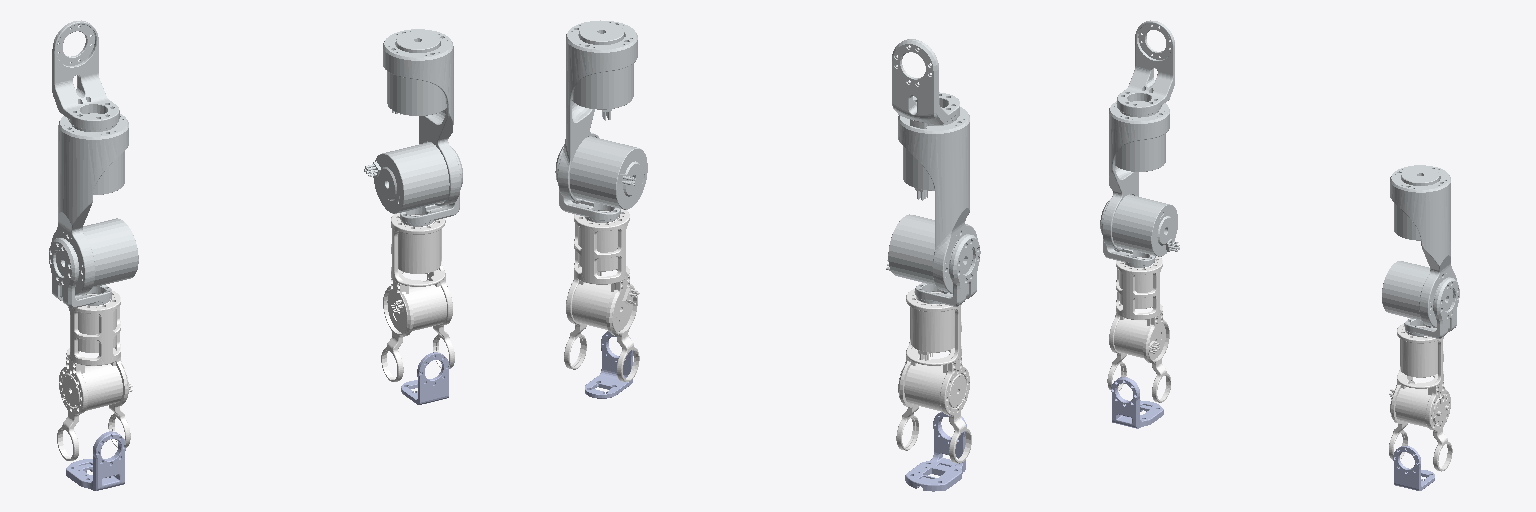
URDF robot description (astral_robot_clean):
<?xml version="1.0" encoding="utf-8"?>
<robot name="astral_robot_clean">
  <!-- dual clean arm — positive-MDH joints -->
  <link name="world"/>
  <joint name="ground_to_body" type="fixed">
    <origin xyz="0 0 0" rpy="0 0 0"/>
    <parent link="world"/><child link="body_link"/>
  </joint>
  <link name="body_link"/>
  <joint name="left_shoulder_mount" type="fixed">
    <origin xyz="0.09495 0.0 0.412" rpy="3.14159 -1.57079 -3.14159"/>
    <parent link="body_link"/><child link="left_base_link"/>
  </joint>
  <link name="left_base_link"/>
  <link name="left_link1">
    <inertial>
      <origin xyz="3.13242e-05 -0.00413701 0.0135973" rpy="0 0 -1.5708"/>
      <mass value="0.42514393"/>
      <inertia ixx="0.00044603372" ixy="8.7983418e-07" ixz="5.25095e-07" iyy="0.00040079554" iyz="-5.5533145e-05" izz="0.00037515957"/>
    </inertial>
    <visual>
      <origin xyz="5.62591e-23 7.48515e-23 0.11655" rpy="1.11022e-16 0 -1.5708"/>
      <geometry>
        <mesh filename="package://robot_description/meshes/astral/robot/link1.STL"/>
      </geometry>
      <material name=""><color rgba="0.898039215686275 0.917647058823529 0.929411764705882 1"/></material>
    </visual>
    <collision>
      <origin xyz="5.62591e-23 7.48515e-23 0.11655" rpy="1.11022e-16 0 -1.5708"/>
      <geometry>
        <mesh filename="package://robot_description/meshes/astral/robot/link1.STL"/>
      </geometry>
    </collision>
  </link>
  <link name="left_link2">
    <inertial>
      <origin xyz="-2.02098e-07 -0.0515368 0.0257897" rpy="-3.14159 3.67321e-06 -3.14159"/>
      <mass value="0.17039715"/>
      <inertia ixx="0.00017663293" ixy="8.6777047e-11" ixz="8.4043449e-12" iyy="0.00012422282" iyz="-5.0535861e-05" izz="0.00015484256"/>
    </inertial>
    <visual>
      <origin xyz="1.38778e-17 -2.26821e-17 0.00245" rpy="-3.14159 3.67321e-06 -3.14159"/>
      <geometry>
        <mesh filename="package://robot_description/meshes/astral/robot/link2.STL"/>
      </geometry>
      <material name=""><color rgba="0.898039215686275 0.917647058823529 0.929411764705882 1"/></material>
    </visual>
    <collision>
      <origin xyz="1.38778e-17 -2.26821e-17 0.00245" rpy="-3.14159 3.67321e-06 -3.14159"/>
      <geometry>
        <mesh filename="package://robot_description/meshes/astral/robot/link2.STL"/>
      </geometry>
    </collision>
  </link>
  <link name="left_link3">
    <inertial>
      <origin xyz="0.000542082 0.00527332 -0.0739358" rpy="-3.14159 0 1.5708"/>
      <mass value="0.82819752"/>
      <inertia ixx="0.001489869" ixy="-4.7065559e-06" ixz="-1.9878592e-05" iyy="0.001465124" iyz="-0.00017105246" izz="0.0006413192"/>
    </inertial>
    <visual>
      <origin xyz="8.52551e-07 -8.99622e-09 -0.12995" rpy="-3.14159 0 1.5708"/>
      <geometry>
        <mesh filename="package://robot_description/meshes/astral/robot/link3.STL"/>
      </geometry>
      <material name=""><color rgba="0.898039215686275 0.917647058823529 0.929411764705882 1"/></material>
    </visual>
    <collision>
      <origin xyz="8.52551e-07 -8.99622e-09 -0.12995" rpy="-3.14159 0 1.5708"/>
      <geometry>
        <mesh filename="package://robot_description/meshes/astral/robot/link3.STL"/>
      </geometry>
    </collision>
  </link>
  <link name="left_link4">
    <inertial>
      <origin xyz="-1.66812e-06 -0.0305679 -0.0269253" rpy="-3.14159 0 3.14159"/>
      <mass value="0.073287179"/>
      <inertia ixx="6.1153384e-05" ixy="-1.9967372e-10" ixz="2.818663e-09" iyy="3.97927e-05" iyz="1.6775908e-05" izz="5.3300851e-05"/>
    </inertial>
    <visual>
      <origin xyz="-1.33007e-06 -1.79947e-08 5.0009e-05" rpy="-3.14159 0 3.14159"/>
      <geometry>
        <mesh filename="package://robot_description/meshes/astral/robot/link4.STL"/>
      </geometry>
      <material name=""><color rgba="0.898039215686275 0.917647058823529 0.929411764705882 1"/></material>
    </visual>
    <collision>
      <origin xyz="-1.33007e-06 -1.79947e-08 5.0009e-05" rpy="-3.14159 0 3.14159"/>
      <geometry>
        <mesh filename="package://robot_description/meshes/astral/robot/link4.STL"/>
      </geometry>
    </collision>
  </link>
  <link name="left_link5">
    <inertial>
      <origin xyz="0.00172649 0.000917268 -0.103295" rpy="7.3464e-06 -3.67321e-06 1.5708"/>
      <mass value="0.35747963"/>
      <inertia ixx="0.00024554352" ixy="-3.26533e-07" ixz="-2.004814e-06" iyy="0.00023855009" iyz="-2.2637367e-07" izz="0.00014874829"/>
    </inertial>
    <visual>
      <origin xyz="1.6309e-06 -3.09829e-07 -0.1446" rpy="7.3464e-06 -3.67321e-06 1.5708"/>
      <geometry>
        <mesh filename="package://robot_description/meshes/astral/robot/link5.STL"/>
      </geometry>
      <material name=""><color rgba="1 1 1 1"/></material>
    </visual>
    <collision>
      <origin xyz="1.6309e-06 -3.09829e-07 -0.1446" rpy="7.3464e-06 -3.67321e-06 1.5708"/>
      <geometry>
        <mesh filename="package://robot_description/meshes/astral/robot/link5.STL"/>
      </geometry>
    </collision>
  </link>
  <link name="left_link6">
    <inertial>
      <origin xyz="7.58827e-05 -0.00209334 1.39388e-05" rpy="7.34638e-06 1.34923e-11 1.57079"/>
      <mass value="0.2233261"/>
      <inertia ixx="0.00012507521" ixy="-5.1107819e-07" ixz="1.4489751e-09" iyy="0.00011919168" iyz="5.4472443e-09" izz="0.00011688215"/>
    </inertial>
    <visual>
      <origin xyz="1.08921e-07 2.82029e-06 0.0346008" rpy="7.34638e-06 1.34923e-11 1.57079"/>
      <geometry>
        <mesh filename="package://robot_description/meshes/astral/robot/link6.STL"/>
      </geometry>
      <material name=""><color rgba="0.866666666666667 0.866666666666667 0.890196078431372 1"/></material>
    </visual>
    <collision>
      <origin xyz="1.08921e-07 2.82029e-06 0.0346008" rpy="7.34638e-06 1.34923e-11 1.57079"/>
      <geometry>
        <mesh filename="package://robot_description/meshes/astral/robot/link6.STL"/>
      </geometry>
    </collision>
  </link>
  <link name="left_link7">
    <inertial>
      <origin xyz="-5.11057e-05 -0.0259945 0.019984" rpy="1.46928e-05 -3.67316e-06 -7.34641e-06"/>
      <mass value="0.015413107"/>
      <inertia ixx="8.042906e-06" ixy="-9.9996338e-12" ixz="-9.6024397e-12" iyy="5.6512939e-06" iyz="-2.0667749e-06" izz="6.483251e-06"/>
    </inertial>
    <visual>
      <origin xyz="-5.0841e-05 -1.71344e-07 -2.82029e-06" rpy="1.46928e-05 -3.67316e-06 -7.34641e-06"/>
      <geometry>
        <mesh filename="package://robot_description/meshes/astral/robot/link7.STL"/>
      </geometry>
      <material name=""><color rgba="0.792156862745098 0.819607843137255 0.933333333333333 1"/></material>
    </visual>
    <collision>
      <origin xyz="-5.0841e-05 -1.71344e-07 -2.82029e-06" rpy="1.46928e-05 -3.67316e-06 -7.34641e-06"/>
      <geometry>
        <mesh filename="package://robot_description/meshes/astral/robot/link7.STL"/>
      </geometry>
    </collision>
  </link>
  <joint name="left_joint1" type="revolute">
    <origin xyz="0 0 -0.11655" rpy="0 0 3.14159"/>
    <parent link="left_base_link"/>
    <child link="left_link1"/>
    <axis xyz="0 0 1"/>
    <limit lower="-3.15" upper="3.15" effort="100" velocity="10"/>
  </joint>
  <joint name="left_joint2" type="revolute">
    <origin xyz="0 -0 0" rpy="1.5708 -1.5708 0"/>
    <parent link="left_link1"/>
    <child link="left_link2"/>
    <axis xyz="0 0 1"/>
    <limit lower="-3.15" upper="3.15" effort="100" velocity="10"/>
  </joint>
  <joint name="left_joint3" type="revolute">
    <origin xyz="0 -0.246 1.50632e-17" rpy="1.5708 -1.5708 0"/>
    <parent link="left_link2"/>
    <child link="left_link3"/>
    <axis xyz="0 0 1"/>
    <limit lower="-3.15" upper="3.15" effort="100" velocity="10"/>
  </joint>
  <joint name="left_joint4" type="revolute">
    <origin xyz="0 -0 0" rpy="-1.5708 0 3.14159"/>
    <parent link="left_link3"/>
    <child link="left_link4"/>
    <axis xyz="0 0 1"/>
    <limit lower="-3.15" upper="3.15" effort="100" velocity="10"/>
  </joint>
  <joint name="left_joint5" type="revolute">
    <origin xyz="0 -0.2265 1.38691e-17" rpy="-1.5708 0 3.14159"/>
    <parent link="left_link4"/>
    <child link="left_link5"/>
    <axis xyz="0 0 1"/>
    <limit lower="-3.15" upper="3.15" effort="100" velocity="10"/>
  </joint>
  <joint name="left_joint6" type="revolute">
    <origin xyz="0 -0 0" rpy="1.5708 1.5708 0"/>
    <parent link="left_link5"/>
    <child link="left_link6"/>
    <axis xyz="0 0 1"/>
    <limit lower="-3.15" upper="3.15" effort="100" velocity="10"/>
  </joint>
  <joint name="left_joint7" type="revolute">
    <origin xyz="0 -0.0036 2.20436e-19" rpy="1.5708 1.5708 0"/>
    <parent link="left_link6"/>
    <child link="left_link7"/>
    <axis xyz="0 0 1"/>
    <limit lower="-3.15" upper="3.15" effort="100" velocity="10"/>
  </joint>
  <joint name="right_shoulder_mount" type="fixed">
    <origin xyz="-0.09495 0.0 0.412" rpy="3.14159 -1.57079 -3.14159"/>
    <parent link="body_link"/><child link="right_base_link"/>
  </joint>
  <link name="right_base_link"/>
  <link name="right_link1">
    <inertial>
      <origin xyz="-3.82337e-05 -0.00413701 -0.0135434" rpy="0 0 -1.5708"/>
      <mass value="0.42514393"/>
      <inertia ixx="0.00044630043" ixy="-1.0834917e-06" ixz="-4.5629541e-07" iyy="0.00040079554" iyz="5.7053706e-05" izz="0.00037489287"/>
    </inertial>
    <visual>
      <origin xyz="-5.62591e-23 -7.48515e-23 -0.11655" rpy="1.11022e-16 0 -1.5708"/>
      <geometry>
        <mesh filename="package://robot_description/meshes/astral/robot/link1_r.STL"/>
      </geometry>
      <material name=""><color rgba="0.898039215686275 0.917647058823529 0.929411764705882 1"/></material>
    </visual>
    <collision>
      <origin xyz="-5.62591e-23 -7.48515e-23 -0.11655" rpy="1.11022e-16 0 -1.5708"/>
      <geometry>
        <mesh filename="package://robot_description/meshes/astral/robot/link1_r.STL"/>
      </geometry>
    </collision>
  </link>
  <link name="right_link2">
    <inertial>
      <origin xyz="2.02098e-07 0.0515368 0.0257897" rpy="-3.14159 3.67321e-06 0"/>
      <mass value="0.17039715"/>
      <inertia ixx="0.00017663293" ixy="8.6777047e-11" ixz="-8.404345e-12" iyy="0.00012422282" iyz="5.0535861e-05" izz="0.00015484256"/>
    </inertial>
    <visual>
      <origin xyz="0 -2.20821e-17 0.00245" rpy="-3.14159 3.67321e-06 0"/>
      <geometry>
        <mesh filename="package://robot_description/meshes/astral/robot/link2_r.STL"/>
      </geometry>
      <material name=""><color rgba="0.898039215686275 0.917647058823529 0.929411764705882 1"/></material>
    </visual>
    <collision>
      <origin xyz="0 -2.20821e-17 0.00245" rpy="-3.14159 3.67321e-06 0"/>
      <geometry>
        <mesh filename="package://robot_description/meshes/astral/robot/link2_r.STL"/>
      </geometry>
    </collision>
  </link>
  <link name="right_link3">
    <inertial>
      <origin xyz="-0.000782975 0.000528183 0.0789885" rpy="3.67321e-06 0 1.57079"/>
      <mass value="1.0972088"/>
      <inertia ixx="0.0025531088" ixy="-4.0431841e-07" ixz="-3.9307368e-05" iyy="0.0025504056" iyz="-1.2093586e-06" izz="0.00090439786"/>
    </inertial>
    <visual>
      <origin xyz="-8.52551e-07 -8.99622e-09 0.12995" rpy="3.67321e-06 0 1.57079"/>
      <geometry>
        <mesh filename="package://robot_description/meshes/astral/robot/link3_r.STL"/>
      </geometry>
      <material name=""><color rgba="0.898039215686275 0.917647058823529 0.929411764705882 1"/></material>
    </visual>
    <collision>
      <origin xyz="-8.52551e-07 -8.99622e-09 0.12995" rpy="3.67321e-06 0 1.57079"/>
      <geometry>
        <mesh filename="package://robot_description/meshes/astral/robot/link3_r.STL"/>
      </geometry>
    </collision>
  </link>
  <link name="right_link4">
    <inertial>
      <origin xyz="-1.21622e-06 -0.0305677 0.0269256" rpy="-3.14159 0 3.14159"/>
      <mass value="0.073287179"/>
      <inertia ixx="6.1153384e-05" ixy="4.2768721e-11" ixz="2.6954197e-09" iyy="3.9792453e-05" iyz="-1.6775809e-05" izz="5.3301097e-05"/>
    </inertial>
    <visual>
      <origin xyz="-1.3297e-06 -1.79947e-08 -4.9991e-05" rpy="-3.14159 0 3.14159"/>
      <geometry>
        <mesh filename="package://robot_description/meshes/astral/robot/link4_r.STL"/>
      </geometry>
      <material name=""><color rgba="0.898039215686275 0.917647058823529 0.929411764705882 1"/></material>
    </visual>
    <collision>
      <origin xyz="-1.3297e-06 -1.79947e-08 -4.9991e-05" rpy="-3.14159 0 3.14159"/>
      <geometry>
        <mesh filename="package://robot_description/meshes/astral/robot/link4_r.STL"/>
      </geometry>
    </collision>
  </link>
  <link name="right_link5">
    <inertial>
      <origin xyz="-0.00171885 -0.000707159 -0.103511" rpy="7.3464e-06 -3.67321e-06 1.5708"/>
      <mass value="0.35500931"/>
      <inertia ixx="0.00024515813" ixy="4.938083e-07" ixz="8.798545e-07" iyy="0.00023811906" iyz="-1.6638491e-07" izz="0.00014869099"/>
    </inertial>
    <visual>
      <origin xyz="1.63054e-06 -3.09829e-07 -0.1446" rpy="7.3464e-06 -3.67321e-06 1.5708"/>
      <geometry>
        <mesh filename="package://robot_description/meshes/astral/robot/link5_r.STL"/>
      </geometry>
      <material name=""><color rgba="1 1 1 1"/></material>
    </visual>
    <collision>
      <origin xyz="1.63054e-06 -3.09829e-07 -0.1446" rpy="7.3464e-06 -3.67321e-06 1.5708"/>
      <geometry>
        <mesh filename="package://robot_description/meshes/astral/robot/link5_r.STL"/>
      </geometry>
    </collision>
  </link>
  <link name="right_link6">
    <inertial>
      <origin xyz="-5.14637e-05 -0.00215008 -5.91412e-05" rpy="7.34638e-06 1.34925e-11 1.57079"/>
      <mass value="0.21744045"/>
      <inertia ixx="0.00012480598" ixy="3.3302123e-07" ixz="-1.3934256e-07" iyy="0.00011877868" iyz="3.8810727e-07" izz="0.00011590933"/>
    </inertial>
    <visual>
      <origin xyz="1.09104e-07 2.81974e-06 0.0345508" rpy="7.34638e-06 1.34925e-11 1.57079"/>
      <geometry>
        <mesh filename="package://robot_description/meshes/astral/robot/link6_r.STL"/>
      </geometry>
      <material name=""><color rgba="0.866666666666667 0.866666666666667 0.890196078431372 1"/></material>
    </visual>
    <collision>
      <origin xyz="1.09104e-07 2.81974e-06 0.0345508" rpy="7.34638e-06 1.34925e-11 1.57079"/>
      <geometry>
        <mesh filename="package://robot_description/meshes/astral/robot/link6_r.STL"/>
      </geometry>
    </collision>
  </link>
  <link name="right_link7">
    <inertial>
      <origin xyz="-1.16839e-06 -0.0348122 0.0116872" rpy="1.46928e-05 -3.67316e-06 -7.34641e-06"/>
      <mass value="0.031460032"/>
      <inertia ixx="2.3977342e-05" ixy="-5.2530246e-13" ixz="-8.2630991e-12" iyy="2.1001373e-05" iyz="-6.4193276e-06" izz="1.5462429e-05"/>
    </inertial>
    <visual>
      <origin xyz="-8.40971e-07 -1.7116e-07 -2.81974e-06" rpy="1.46928e-05 -3.67316e-06 -7.34641e-06"/>
      <geometry>
        <mesh filename="package://robot_description/meshes/astral/robot/link7_r.STL"/>
      </geometry>
      <material name=""><color rgba="0.792156862745098 0.819607843137255 0.933333333333333 1"/></material>
    </visual>
    <collision>
      <origin xyz="-8.40971e-07 -1.7116e-07 -2.81974e-06" rpy="1.46928e-05 -3.67316e-06 -7.34641e-06"/>
      <geometry>
        <mesh filename="package://robot_description/meshes/astral/robot/link7_r.STL"/>
      </geometry>
    </collision>
  </link>
  <joint name="right_joint1" type="revolute">
    <origin xyz="0 -0 0.11655" rpy="0 0 3.14159"/>
    <parent link="right_base_link"/>
    <child link="right_link1"/>
    <axis xyz="0 0 1"/>
    <limit lower="-3.15" upper="3.15" effort="100" velocity="10"/>
  </joint>
  <joint name="right_joint2" type="revolute">
    <origin xyz="0 -0 0" rpy="1.5708 1.5708 0"/>
    <parent link="right_link1"/>
    <child link="right_link2"/>
    <axis xyz="0 0 1"/>
    <limit lower="-3.15" upper="3.15" effort="100" velocity="10"/>
  </joint>
  <joint name="right_joint3" type="revolute">
    <origin xyz="0 0.246 -1.50632e-17" rpy="1.5708 1.5708 0"/>
    <parent link="right_link2"/>
    <child link="right_link3"/>
    <axis xyz="0 0 1"/>
    <limit lower="-3.15" upper="3.15" effort="100" velocity="10"/>
  </joint>
  <joint name="right_joint4" type="revolute">
    <origin xyz="0 -0 0" rpy="1.5708 0 0"/>
    <parent link="right_link3"/>
    <child link="right_link4"/>
    <axis xyz="0 0 1"/>
    <limit lower="-3.15" upper="3.15" effort="100" velocity="10"/>
  </joint>
  <joint name="right_joint5" type="revolute">
    <origin xyz="0 -0.2265 1.38691e-17" rpy="-1.5708 0 3.14159"/>
    <parent link="right_link4"/>
    <child link="right_link5"/>
    <axis xyz="0 0 1"/>
    <limit lower="-3.15" upper="3.15" effort="100" velocity="10"/>
  </joint>
  <joint name="right_joint6" type="revolute">
    <origin xyz="0 -0 0" rpy="1.5708 1.5708 0"/>
    <parent link="right_link5"/>
    <child link="right_link6"/>
    <axis xyz="0 0 1"/>
    <limit lower="-3.15" upper="3.15" effort="100" velocity="10"/>
  </joint>
  <joint name="right_joint7" type="revolute">
    <origin xyz="0 -0.0036 2.20436e-19" rpy="1.5708 1.5708 0"/>
    <parent link="right_link6"/>
    <child link="right_link7"/>
    <axis xyz="0 0 1"/>
    <limit lower="-3.15" upper="3.15" effort="100" velocity="10"/>
  </joint>
</robot>

--- Render facts (derived) ---
Views: 3 orthographic renders of the robot side by side, from view 1: azimuth 30°, elevation 25°; view 2: azimuth 150°, elevation 25°; view 3: azimuth 330°, elevation 25°.
Robot: astral_robot_clean — 18 links, 17 joints (14 revolute, 3 fixed); root link world; default pose: all joints at 0.
Links seen in each view (by area): view 1: left_link3, right_link3, left_link5, right_link5, right_link2, right_link7, right_link4, left_link7, left_link4; view 2: left_link3, right_link3, left_link5, right_link5, right_link2, right_link7, right_link4, left_link7, left_link4; view 3: left_link3, right_link3, right_link5, left_link5, right_link2, right_link7, left_link4, left_link7, right_link4.
Boxes of the visible links, x1,y1,x2,y2 form: left_link3: [364, 29, 460, 213]; right_link3: [51, 113, 138, 295]; left_link5: [381, 213, 454, 381]; right_link5: [57, 291, 132, 460]; right_link2: [52, 20, 119, 129]; right_link7: [66, 431, 125, 490]; right_link4: [49, 238, 111, 308]; left_link7: [401, 352, 449, 404]; left_link4: [400, 147, 462, 226]; left_link3: [558, 20, 647, 209]; right_link3: [886, 107, 977, 293]; left_link5: [564, 209, 639, 381]; right_link5: [896, 289, 971, 463]; right_link2: [892, 39, 959, 128]; right_link7: [905, 412, 966, 491]; right_link4: [915, 234, 980, 306]; left_link7: [585, 331, 633, 398]; left_link4: [555, 144, 620, 222]; left_link3: [1382, 165, 1457, 327]; right_link3: [1102, 101, 1179, 256]; right_link5: [1107, 256, 1170, 402]; left_link5: [1389, 324, 1452, 471]; right_link2: [1117, 20, 1174, 114]; right_link7: [1111, 377, 1163, 428]; left_link4: [1404, 277, 1459, 338]; left_link7: [1393, 445, 1434, 490]; right_link4: [1100, 199, 1155, 267].
Size in the robot's own frame: 0.511 by 0.0865 by 0.5505 metres.
9 mesh visuals loaded from 14 distinct referenced files (9 binary STL); not drawn: 5 (reference not matched to a file when rendering).
